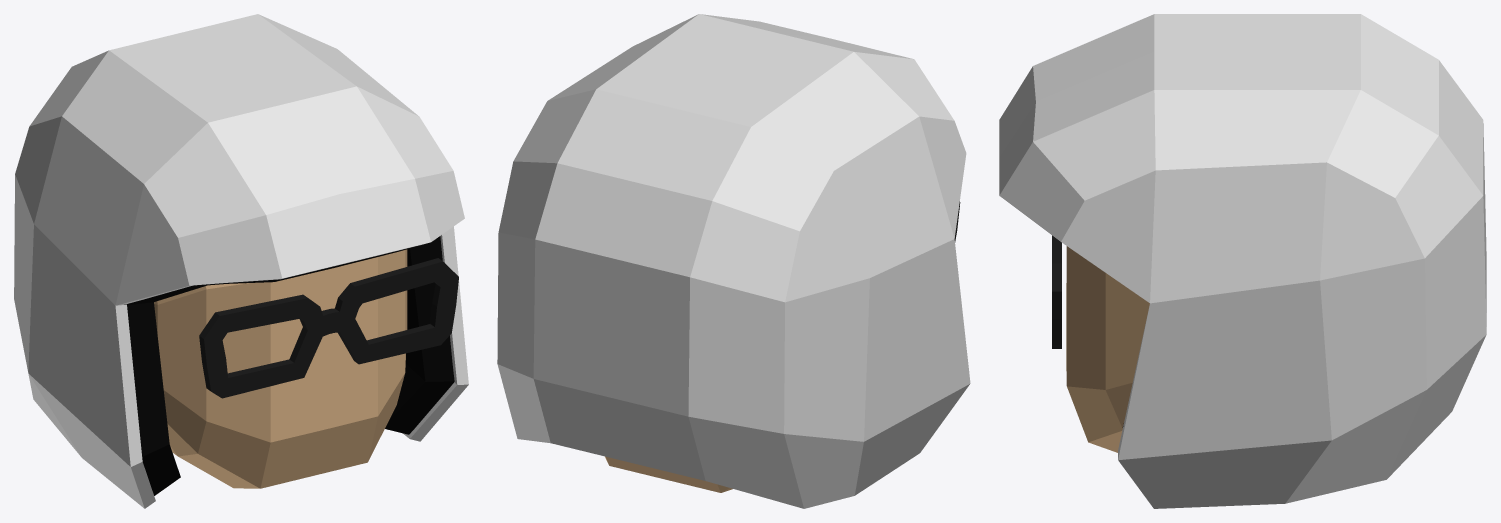
File: chara_4.glb
The picture shows the model from 3 angles, left to right: view 1: azimuth 30°, elevation 25°; view 2: azimuth 150°, elevation 25°; view 3: azimuth 270°, elevation 25°; orthographic projection. The views are drawn at different scales.
Visible parts, largest first — view 1: hellmet, head, 平面, hellmet.001; view 2: hellmet, head; view 3: hellmet, head, 平面.
Boxes of the visible parts, left/top/right/bottom form: hellmet: left=14, top=14, right=468, bottom=508; head: left=154, top=249, right=407, bottom=488; 平面: left=199, top=258, right=458, bottom=398; hellmet.001: left=124, top=236, right=454, bottom=495; hellmet: left=497, top=14, right=970, bottom=508; head: left=605, top=456, right=732, bottom=492; hellmet: left=999, top=14, right=1486, bottom=508; head: left=1066, top=246, right=1149, bottom=452; 平面: left=1052, top=235, right=1061, bottom=348.
Size of the model in its own units: 2.08 by 2.18 by 2.49.
